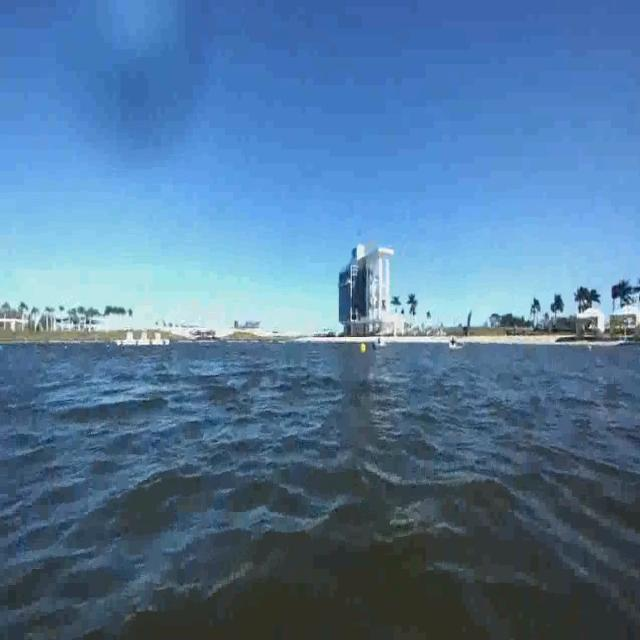yellow-buoy: (359, 342, 367, 355)
